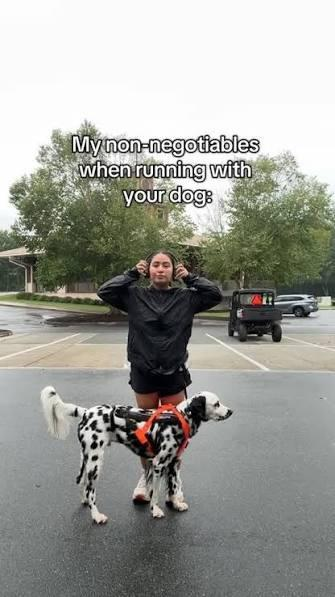adult_dog: (40, 385, 234, 524)
non-dog: (94, 249, 223, 514)
